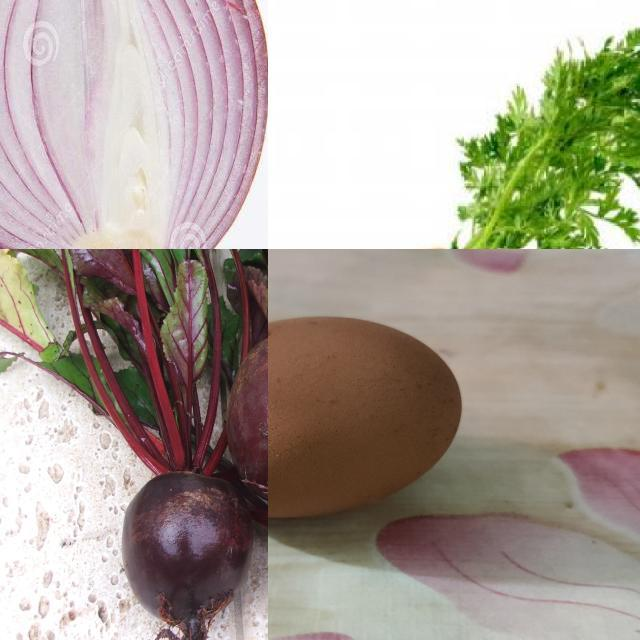beet: (121, 470, 247, 640), (222, 332, 269, 487)
egg: (269, 306, 470, 531)
onion: (1, 1, 269, 250)
